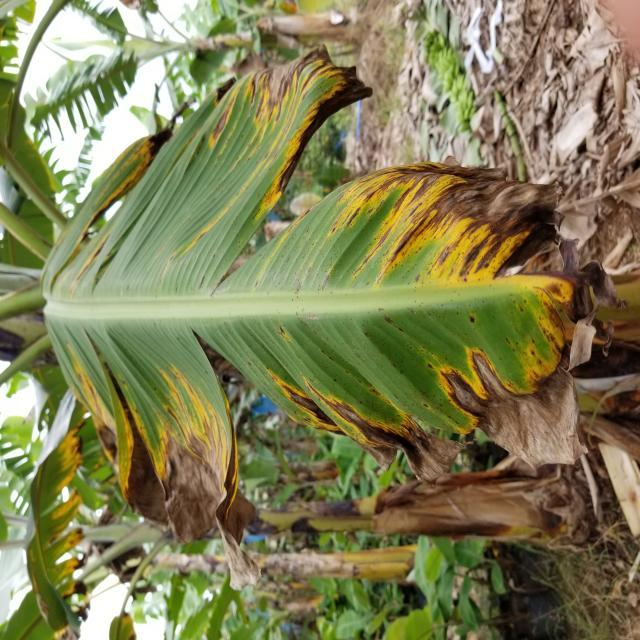Early_rust: (25, 65, 589, 478)
